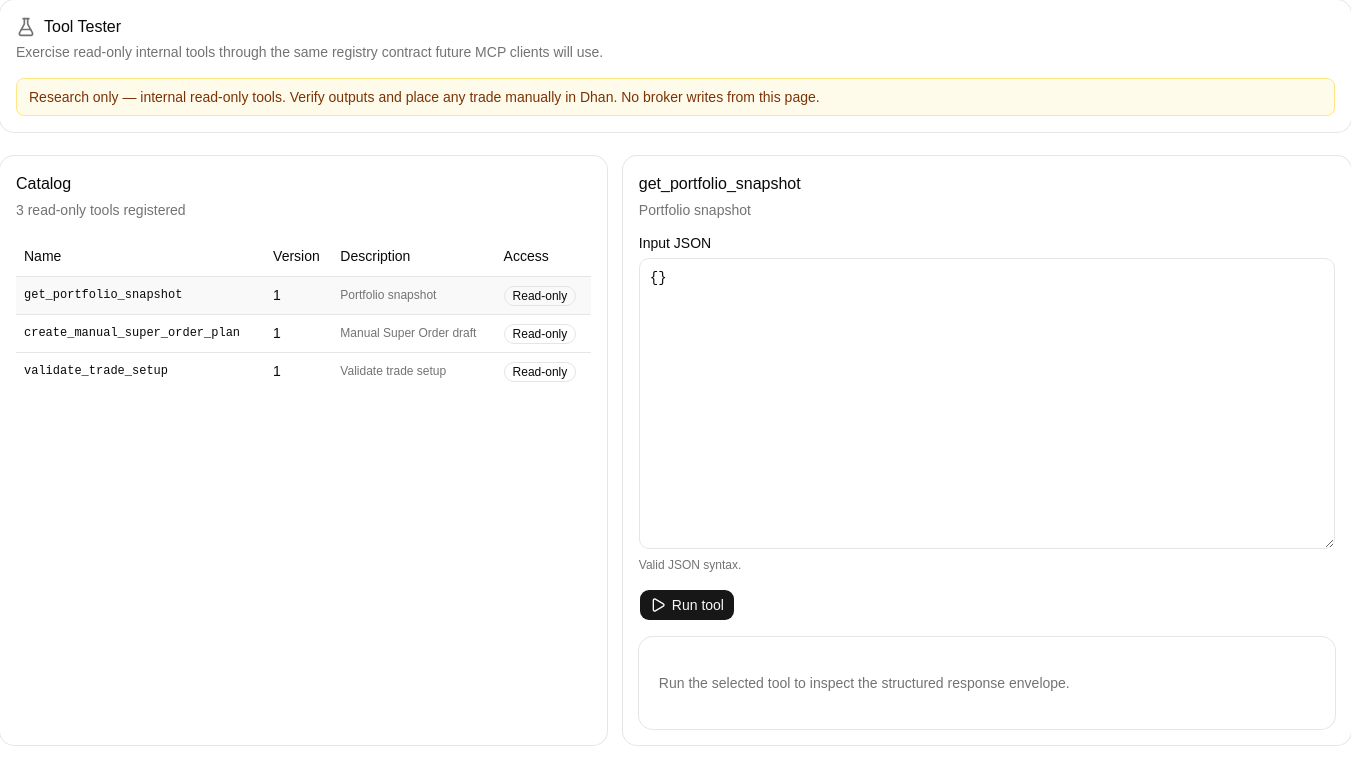
ToolTesterPage › shows manual draft disclaimer for create_manual_super_order_plan
Expected: the table with test id "tool-catalog-table" is shown, x1=16 y1=236 x2=591 y2=390
Click the row with test id "tool-row-create_manual_super_order_plan": (303, 333) x1=16 y1=314 x2=591 y2=352
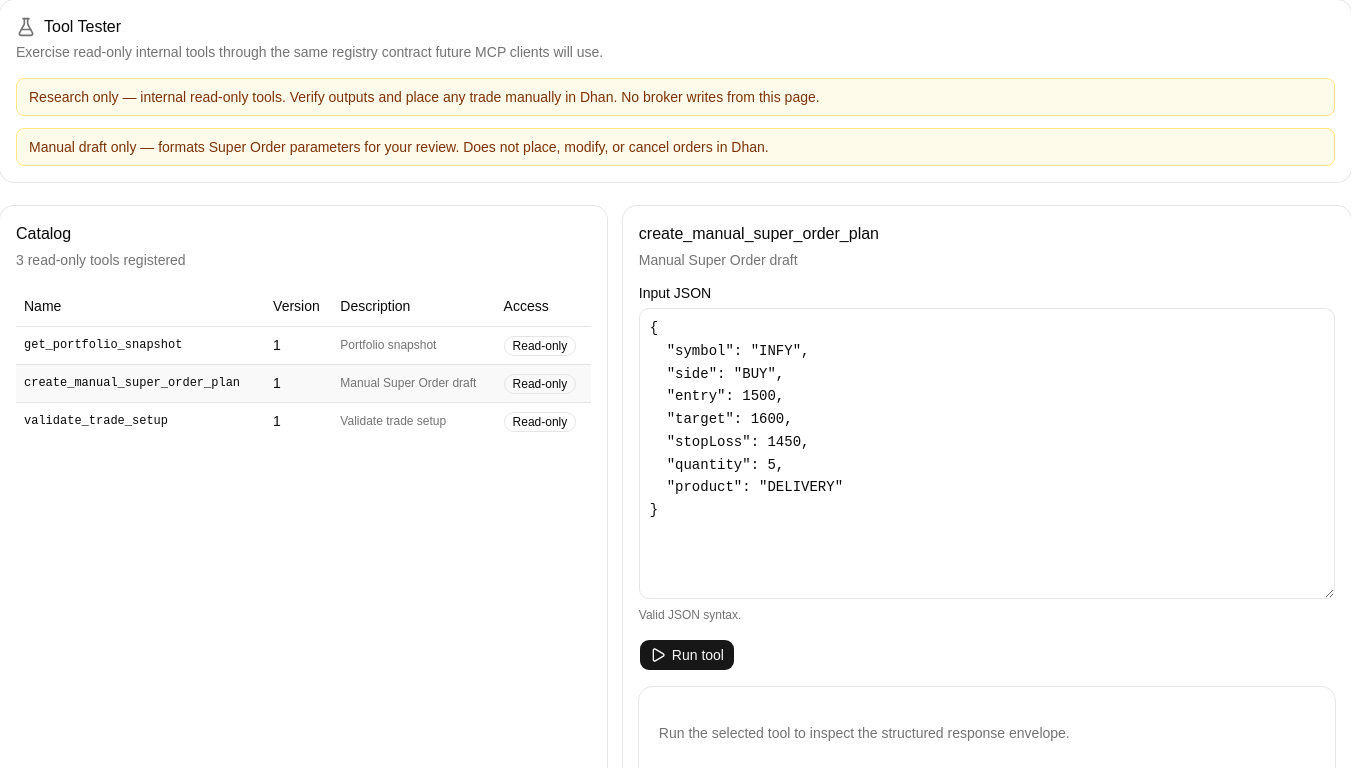
Expected: the button with test id "tool-run-button" reads "Run tool", x1=639 y1=639 x2=735 y2=671
Expected: the text with test id "manual-draft-disclaimer" shows "Manual draft only", x1=29 y1=139 x2=769 y2=155
